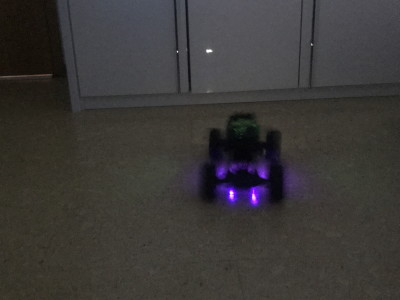remote control car: (196, 109, 287, 204)
